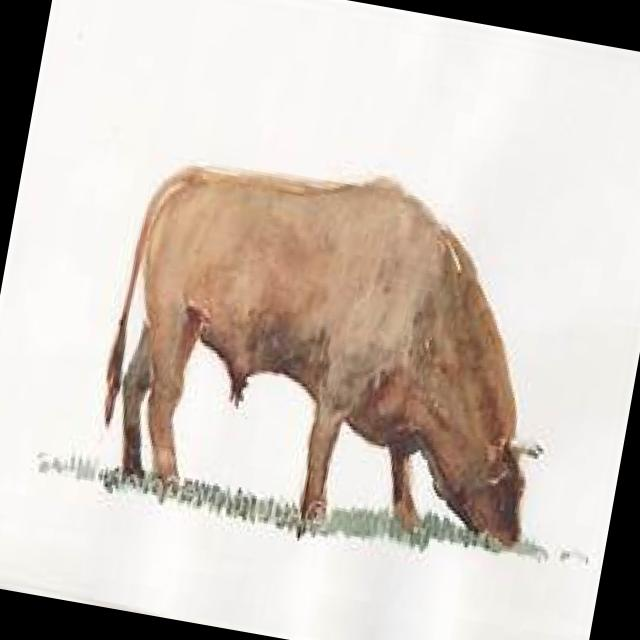cow: (87, 138, 578, 573)
